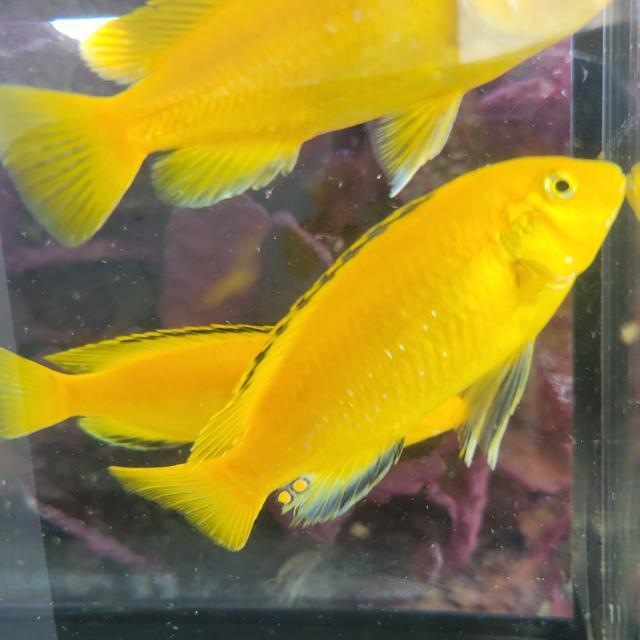YellowCichlid: (138, 155, 634, 566), (0, 0, 620, 208), (5, 332, 239, 432)
